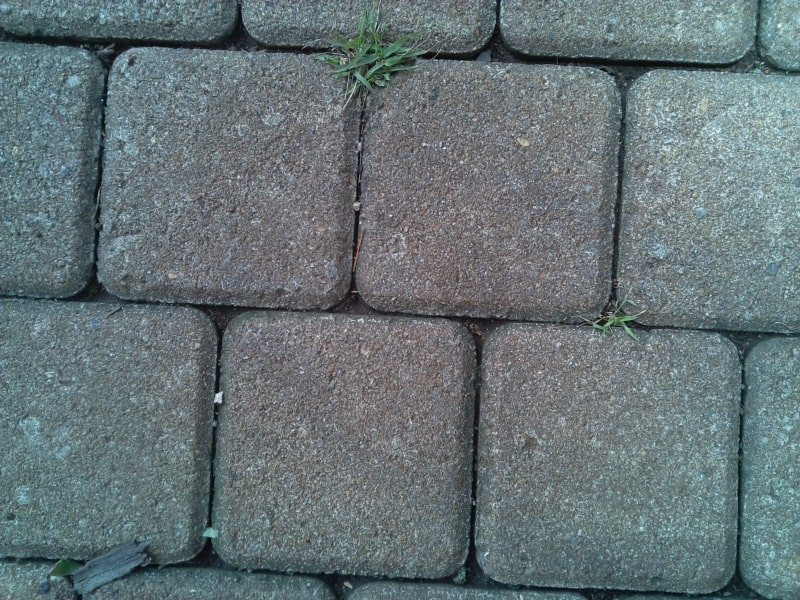Weed: (313, 32, 424, 91), (588, 299, 645, 342)
